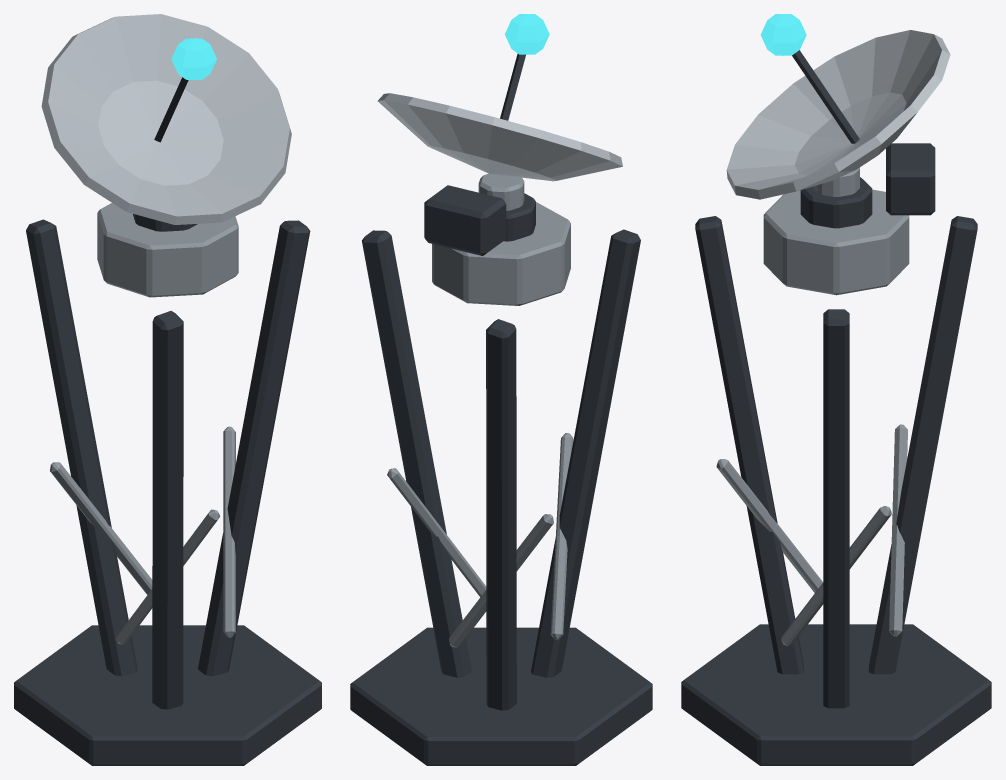
File: exo-radar.glb
3 views of the same model, side by side, from view 1: azimuth 30°, elevation 25°; view 2: azimuth 150°, elevation 25°; view 3: azimuth 270°, elevation 25° (orthographic). The views are drawn at different scales.
Parts seen in each view (by area): view 1: body, dish; view 2: body, dish; view 3: body, dish.
Part boxes in pixels (x1,y1,x2,y2): body: [14, 203, 321, 765]; dish: [41, 14, 291, 224]; body: [350, 193, 652, 765]; dish: [377, 14, 622, 255]; body: [681, 177, 991, 765]; dish: [726, 14, 950, 215].
Bounding box in the file's own units: 3.6 × 9.31 × 3.76.
